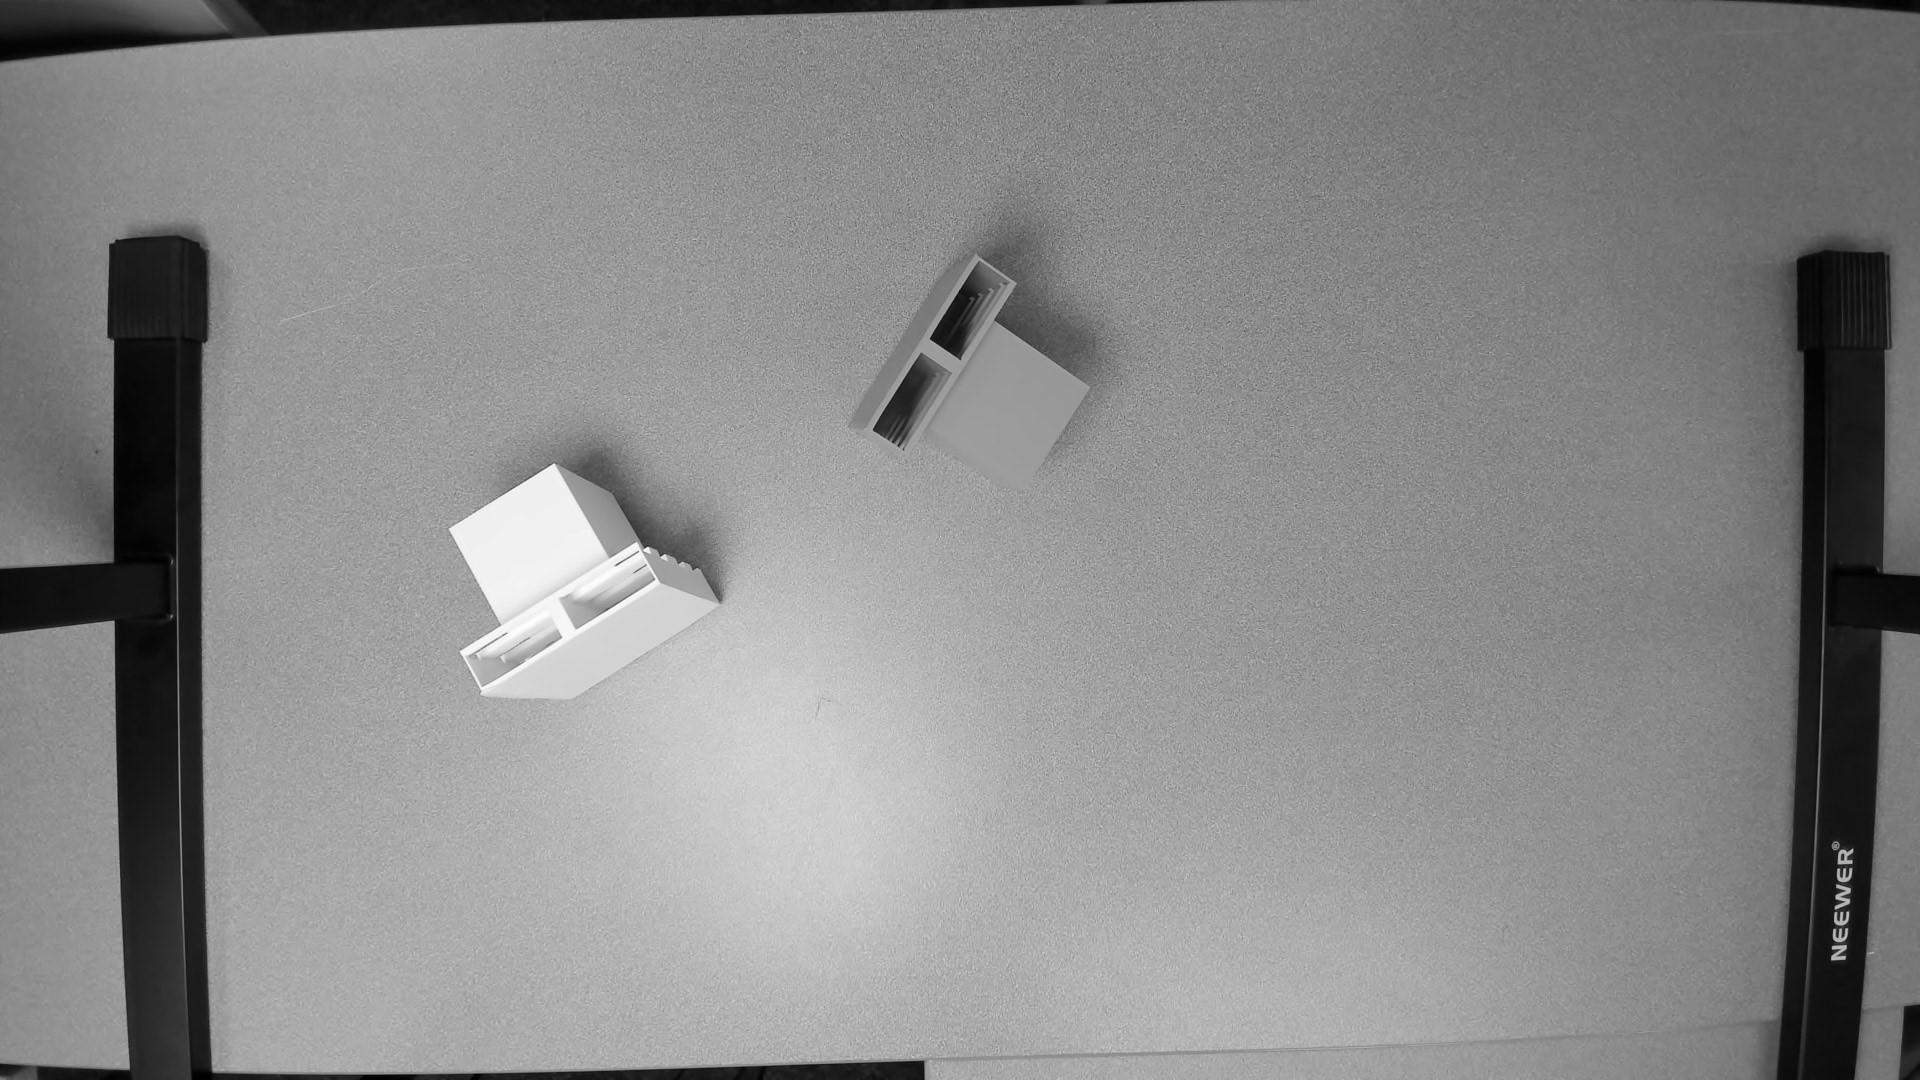grey pallet: (847, 247, 1096, 518)
white pallet: (440, 458, 736, 723)
